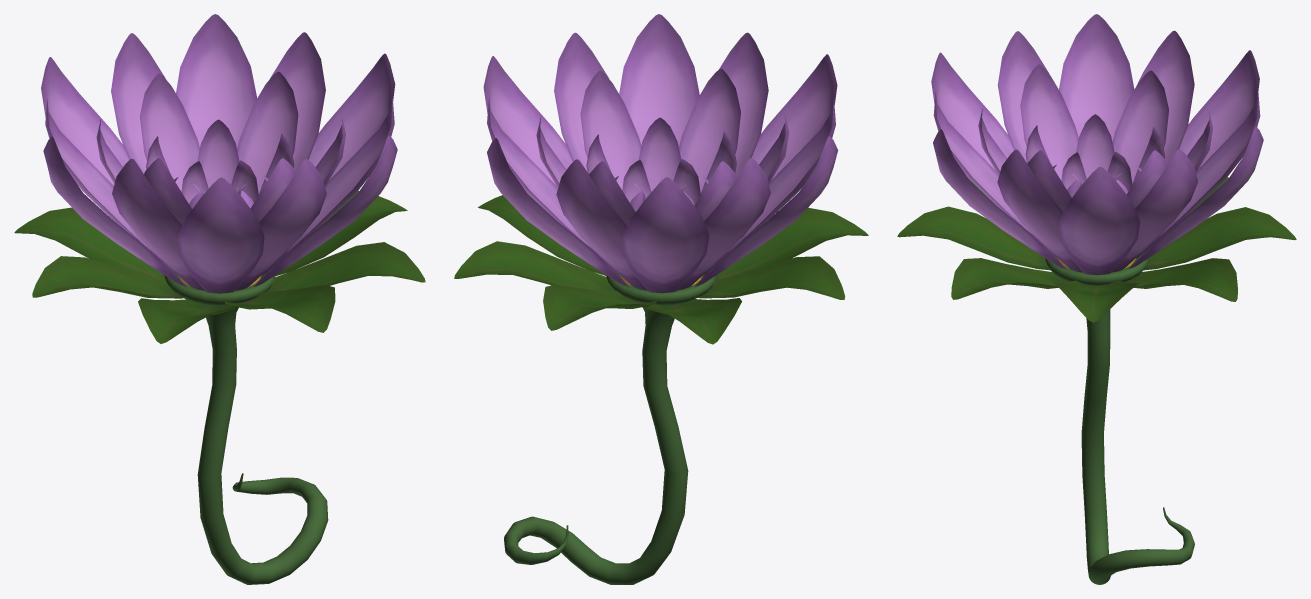
Rendered from flowerfontain.glb.
3 renders of one model, left to right at view 1: azimuth 30°, elevation 25°; view 2: azimuth 150°, elevation 25°; view 3: azimuth 270°, elevation 25°, orthographic. The views are drawn at different scales.
Parts seen in each view (by area): view 1: Flower_Lotus-Stylized; view 2: Flower_Lotus-Stylized; view 3: Flower_Lotus-Stylized.
Boxes of the visible parts, box(x1,y1,x2,y2) form: Flower_Lotus-Stylized: box(14, 14, 425, 584); Flower_Lotus-Stylized: box(454, 14, 868, 584); Flower_Lotus-Stylized: box(897, 14, 1296, 584).
Size of the model in its own units: 22.23 by 28.65 by 22.23.
1 material, 1 textured.
